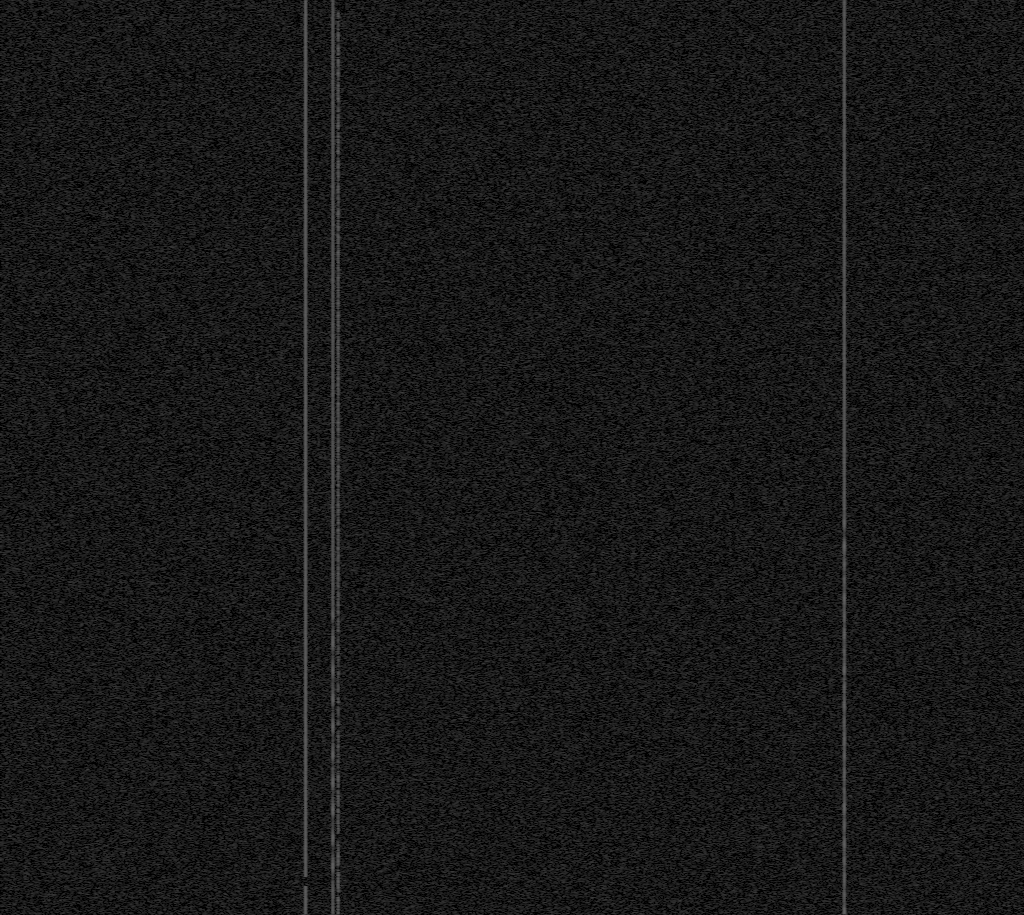wv_am: (320, 0, 346, 915), (832, 0, 856, 915)
wv_cw: (302, 0, 309, 877), (289, 886, 323, 915)
wv_lsb: (335, 8, 341, 726), (329, 841, 348, 915), (335, 730, 341, 834)
